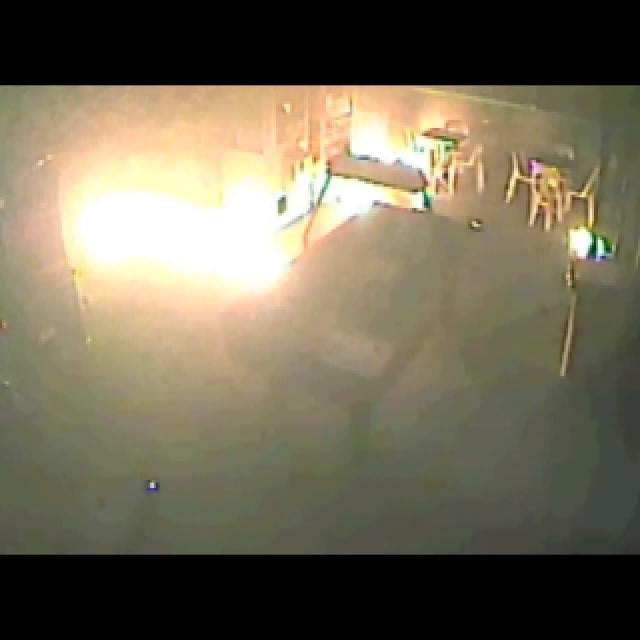arson: (54, 111, 562, 388)
